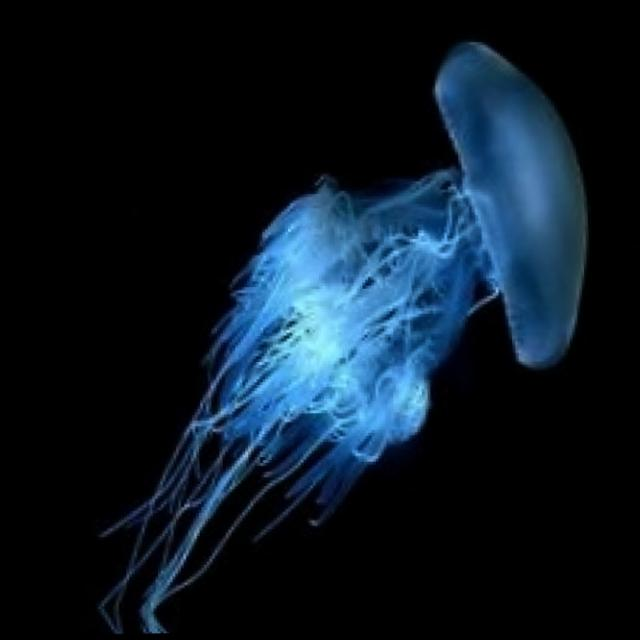Human: (57, 31, 608, 639)
